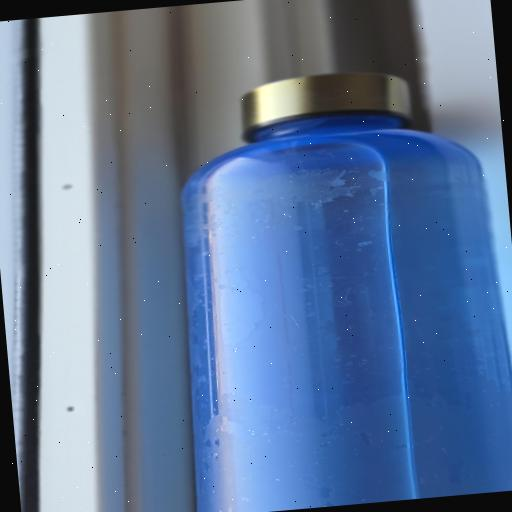bottle: (47, 33, 512, 512)
